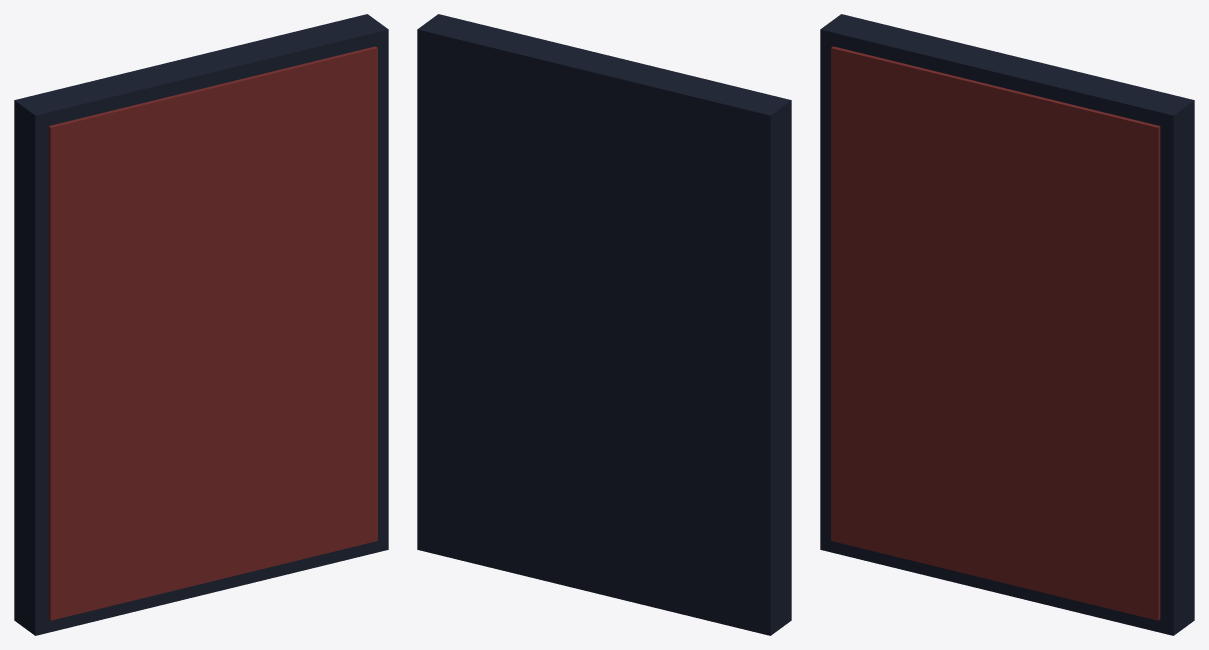
File: dvd-0.glb
3 views of the same model, side by side, from view 1: azimuth 30°, elevation 25°; view 2: azimuth 150°, elevation 25°; view 3: azimuth 330°, elevation 25° (orthographic).
Size of the model in its own units: 0.135 by 0.19 by 0.0155.
